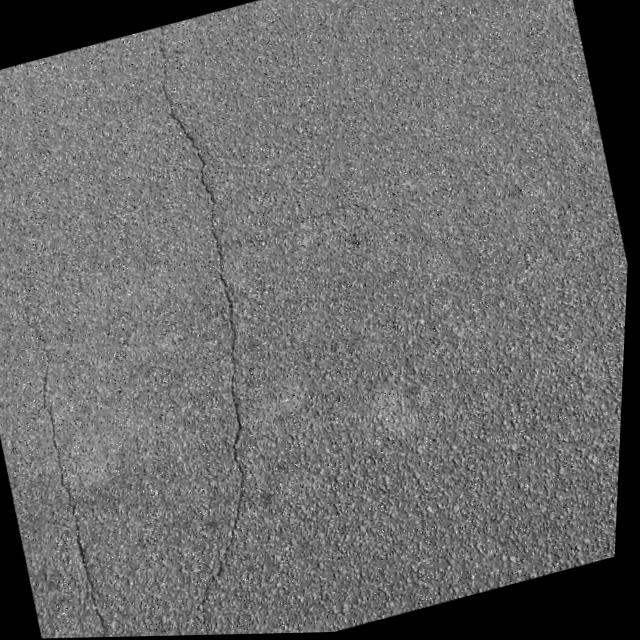Crack: (48, 16, 341, 639), (13, 312, 146, 639), (221, 162, 479, 274)
